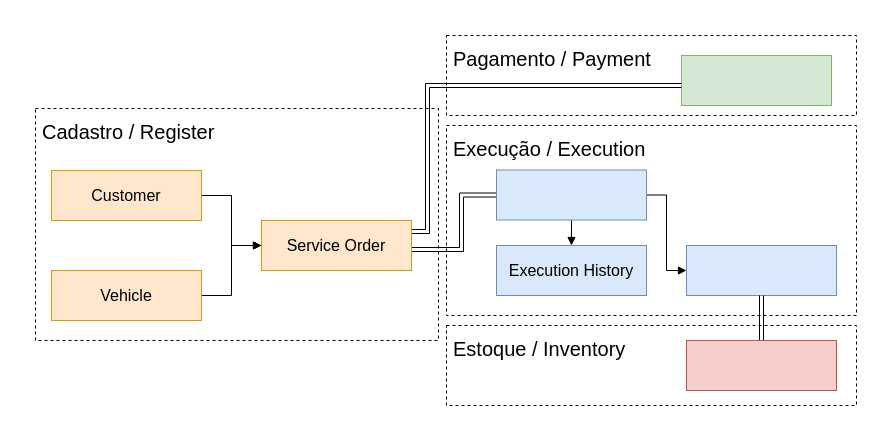
This 890x440 diagram has some shape labels left out. The shapes that lost their labels are listed below. From the top down, each one's box as (x1, y1, x2, y2) in pixels, then its label:
(680, 54, 832, 106): Invoice
(496, 169, 646, 220): Execution
(686, 244, 836, 296): Execution Insume
(686, 340, 836, 390): Insume
